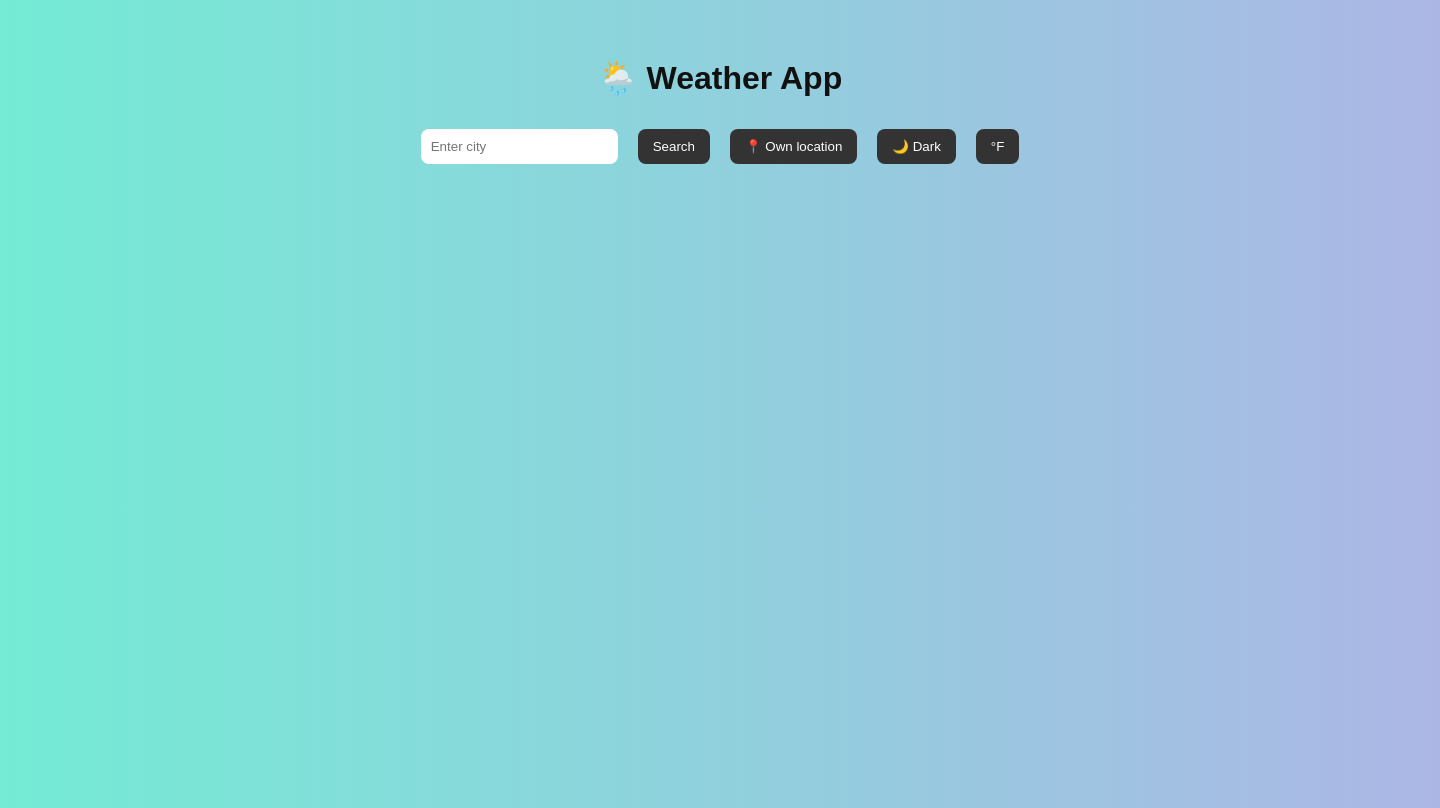
Test case: Weather › when the browser blocks localStorage › still searches and toggles settings, without remembering them
This screenshot has width=1440, height=808.
In the field labelled "city": [519, 146] box 421,129 -> 618,164, type "Helsinki"
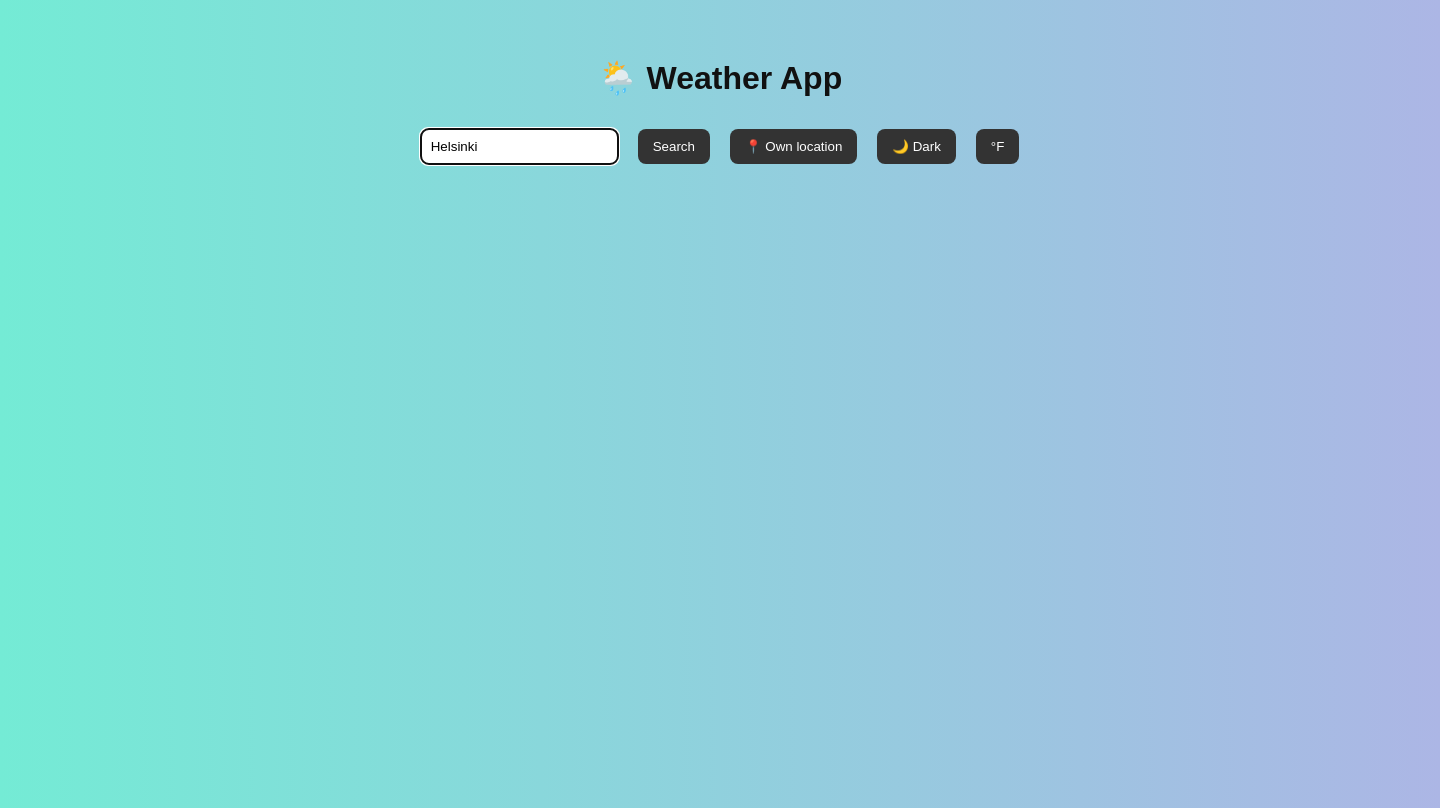
Click the button "Search": [674, 146] box 638,129 -> 710,164
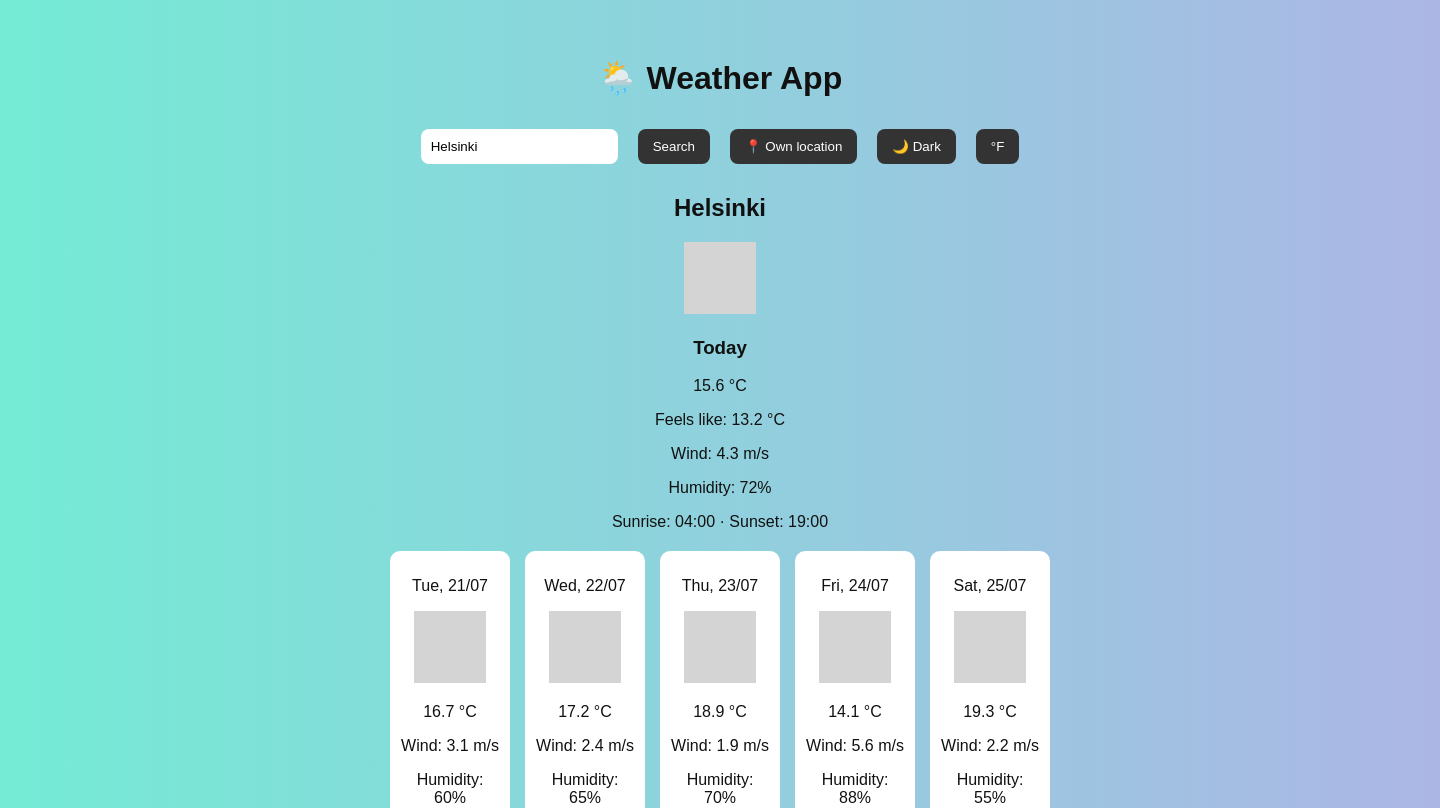
Result: the heading "Helsinki" is shown at 674,194 -> 766,221
Click the button "🌙 Dark": [917, 146] box 877,129 -> 956,164
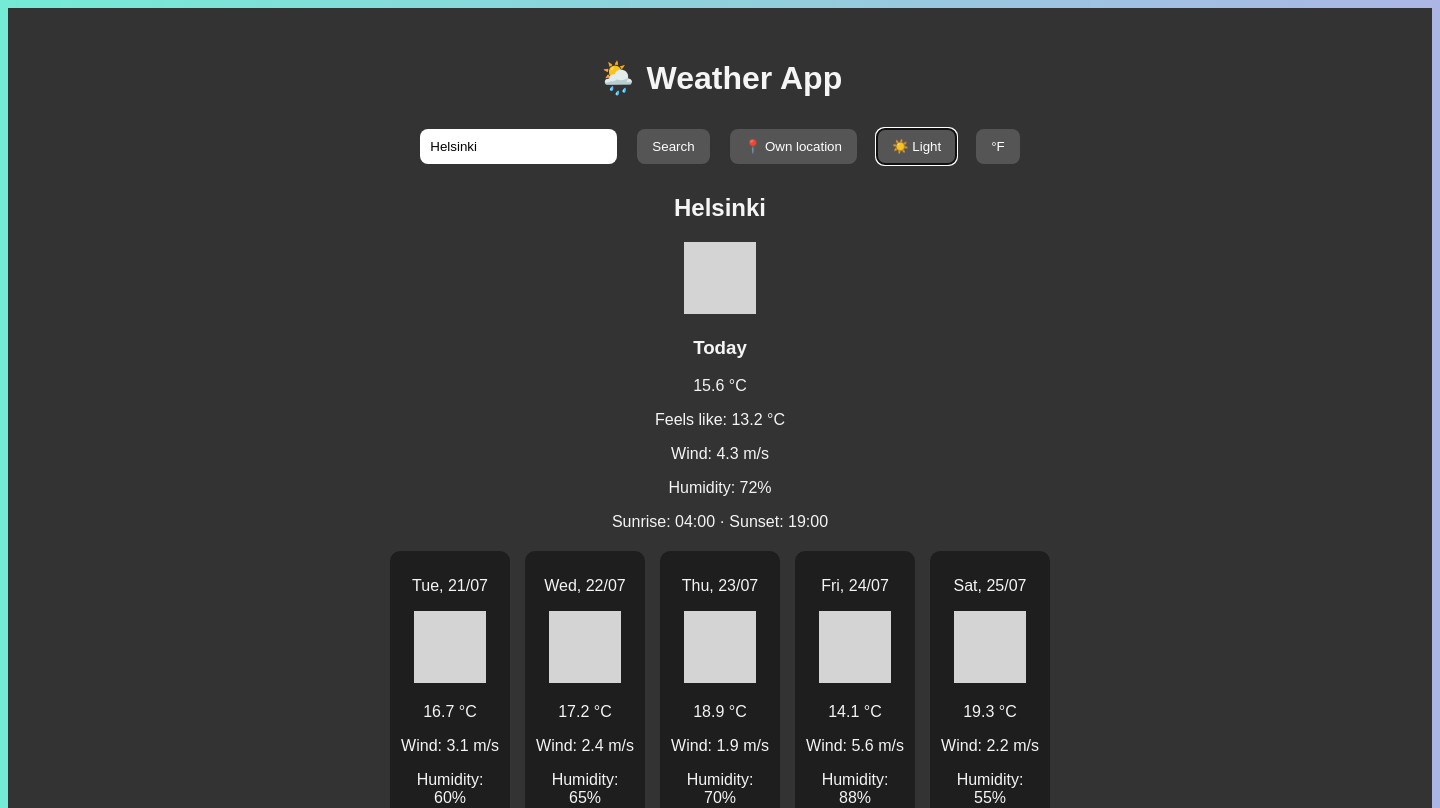
Click the button "°F": [998, 146] box 976,129 -> 1020,164
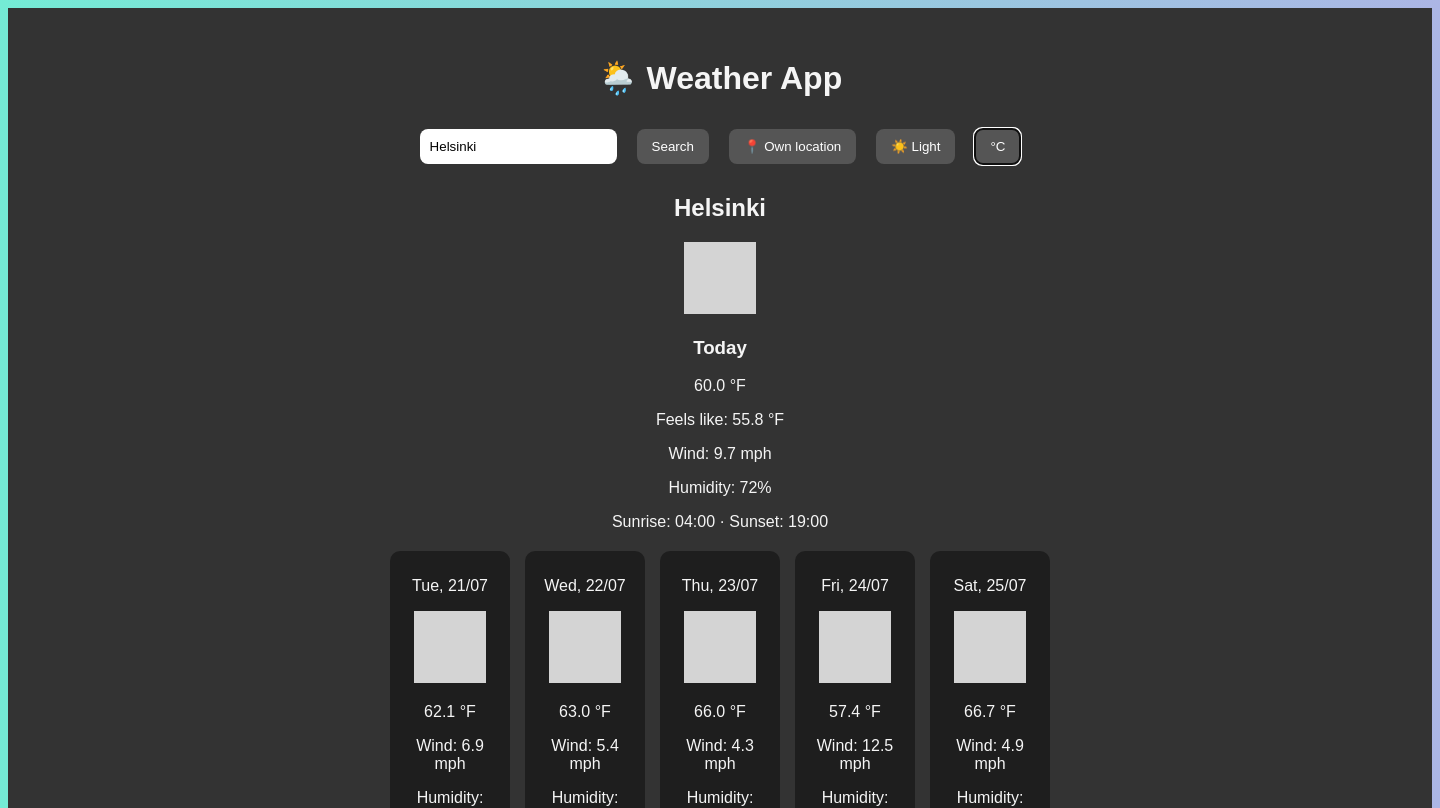
Result: the text "60.0 °F" is shown at 694,377 -> 746,394
